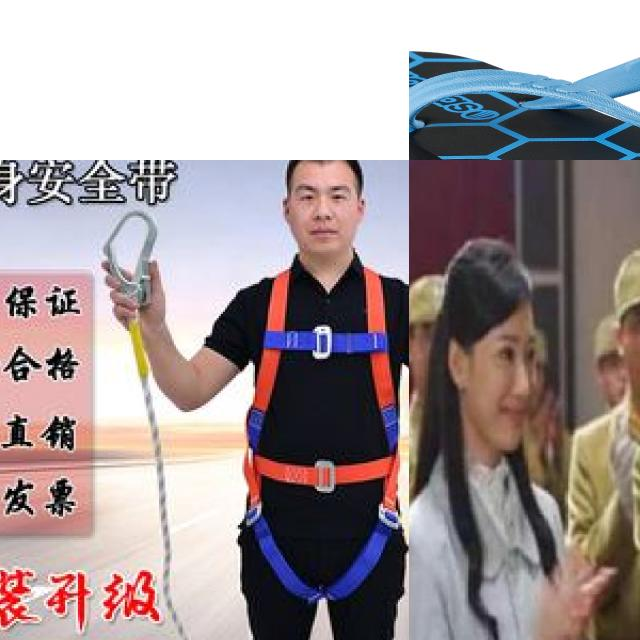Harness: (240, 263, 407, 608)
No_Glasses: (294, 184, 354, 208)
Sandals: (409, 49, 640, 160)
face_nomask: (492, 328, 539, 452), (630, 304, 640, 393)
hand_glove: (607, 411, 635, 507)
hand_noglove: (539, 553, 599, 640)
head_nohelmet: (447, 239, 547, 335)
person: (409, 236, 608, 640)
